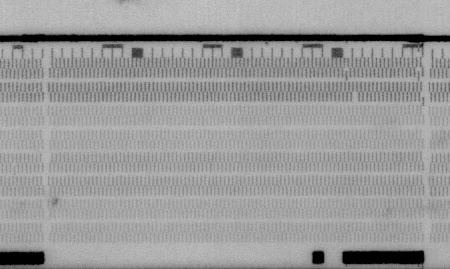Broken hole: (350, 92, 360, 103)
Oblique printing: (341, 68, 351, 82), (414, 68, 425, 80), (419, 91, 427, 105)
